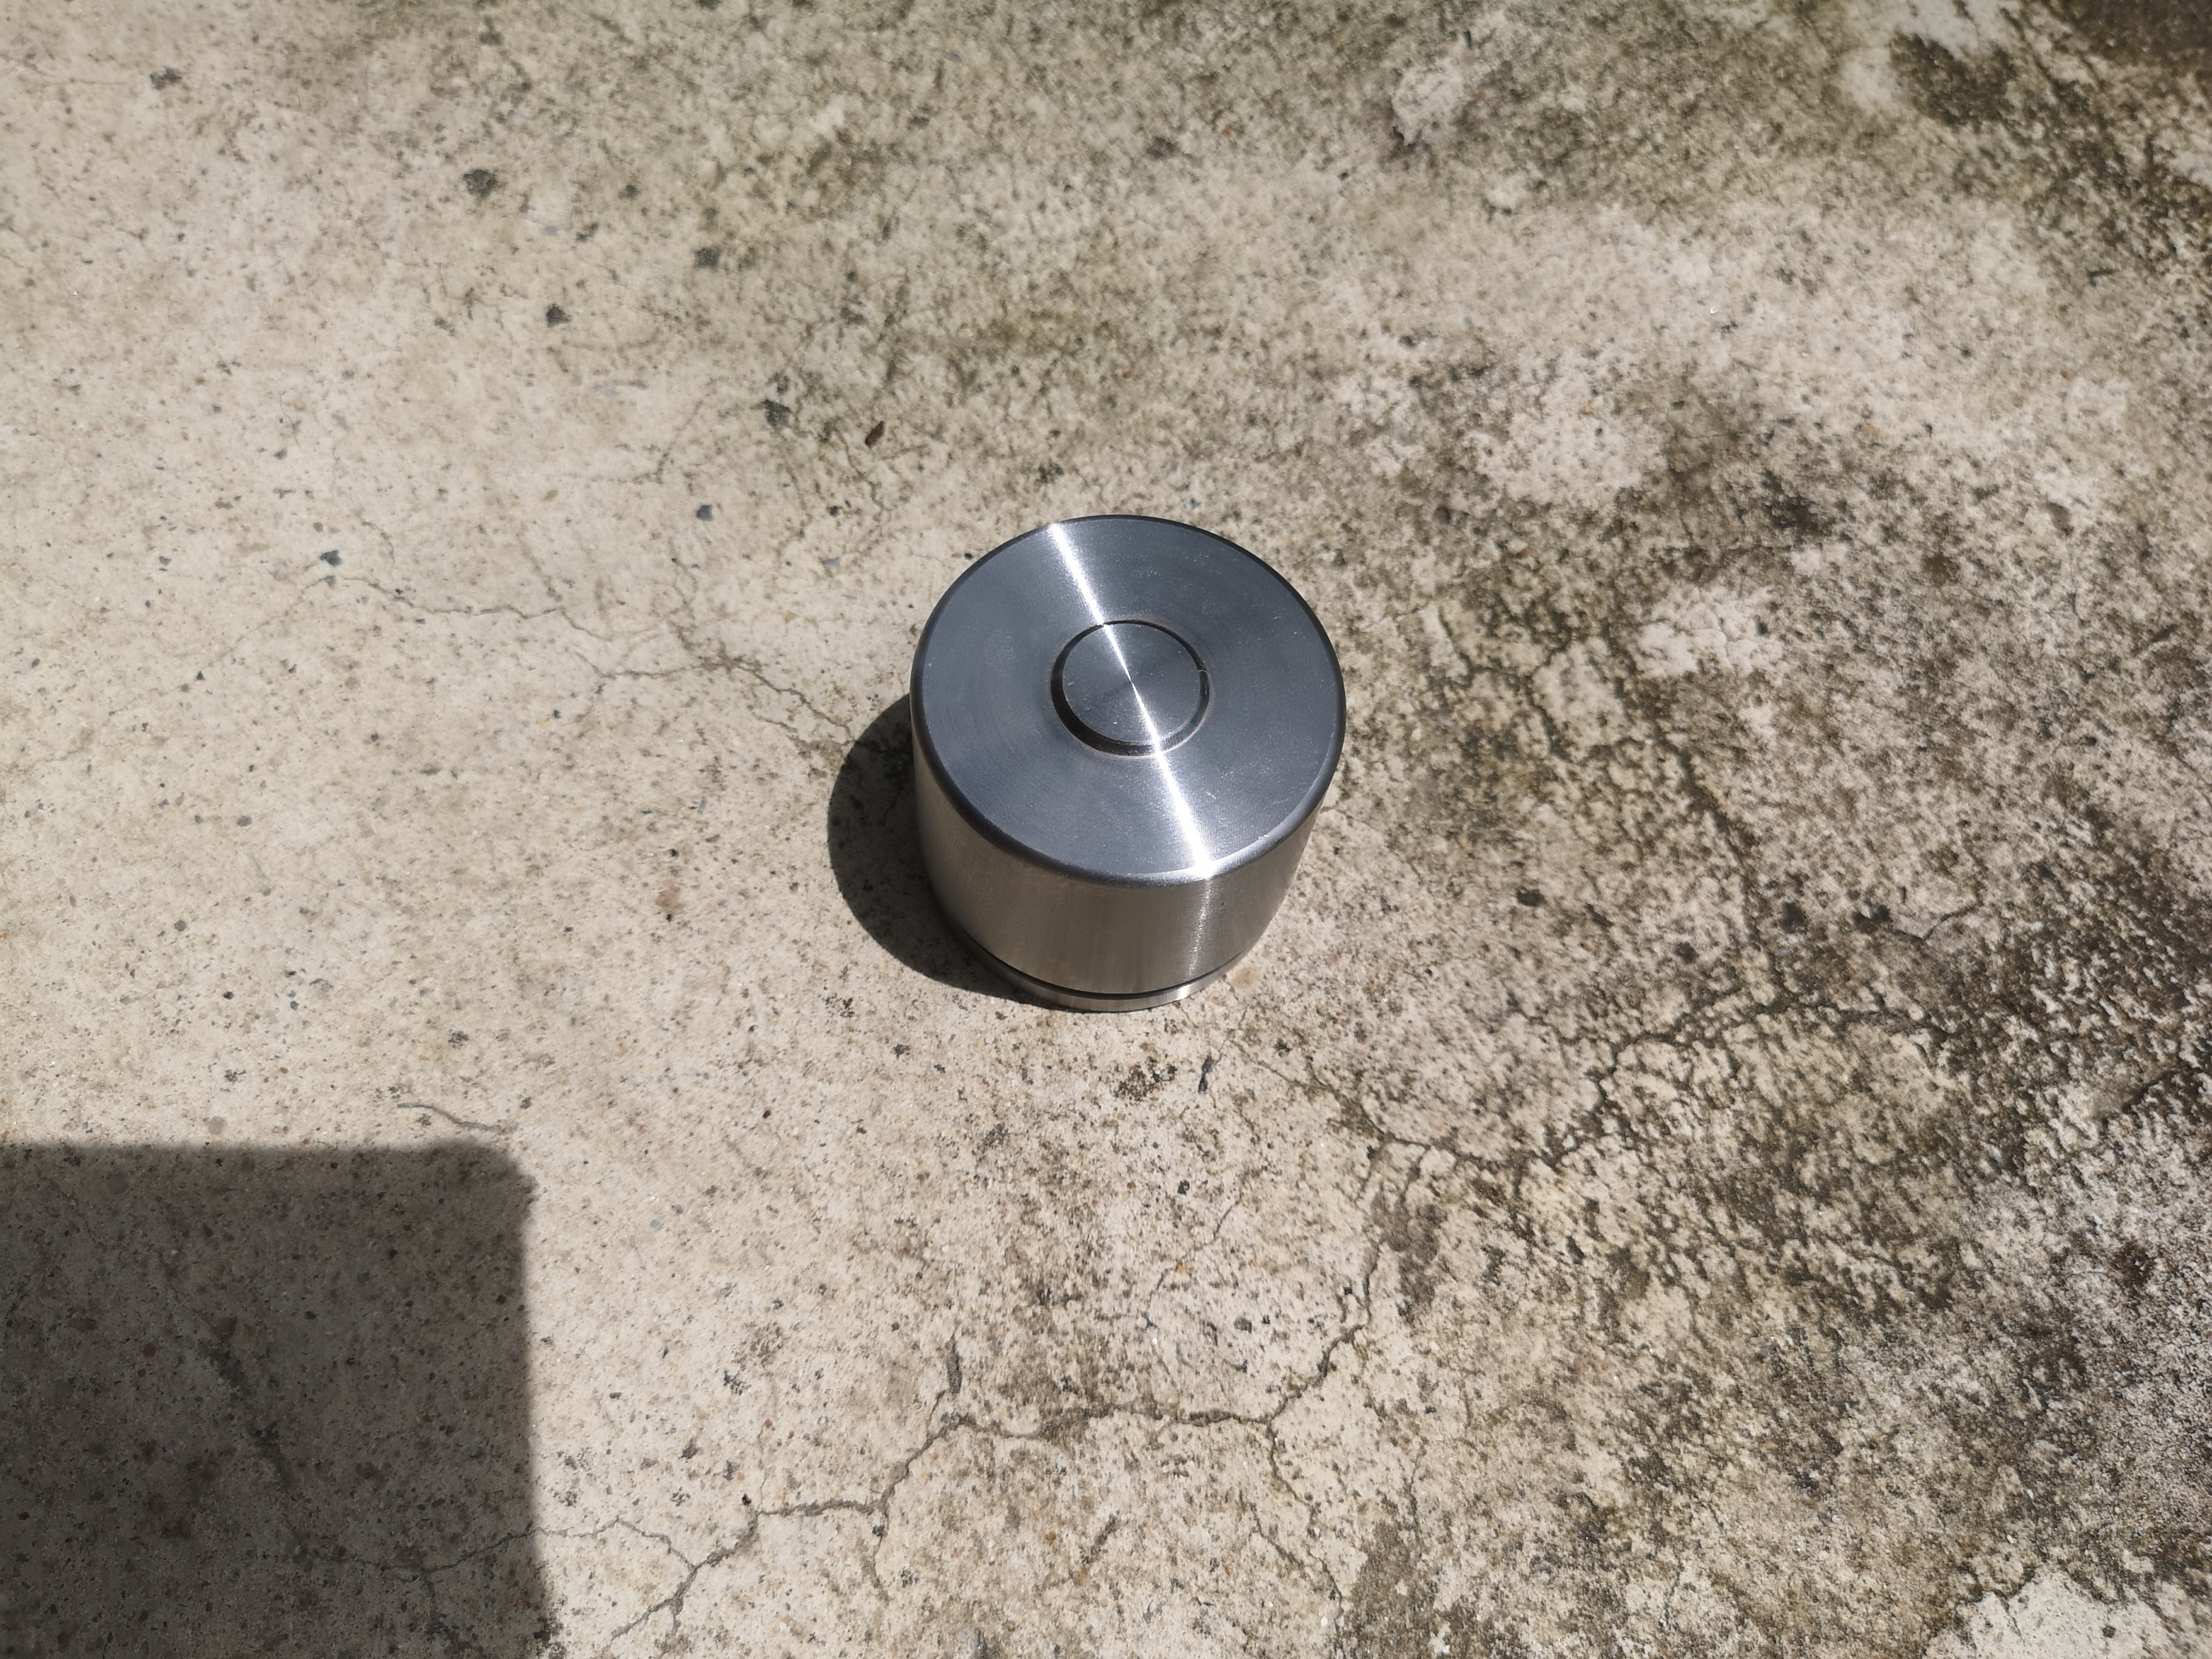ลูกสูบดิสเบรค: (864, 497, 1397, 1030)
